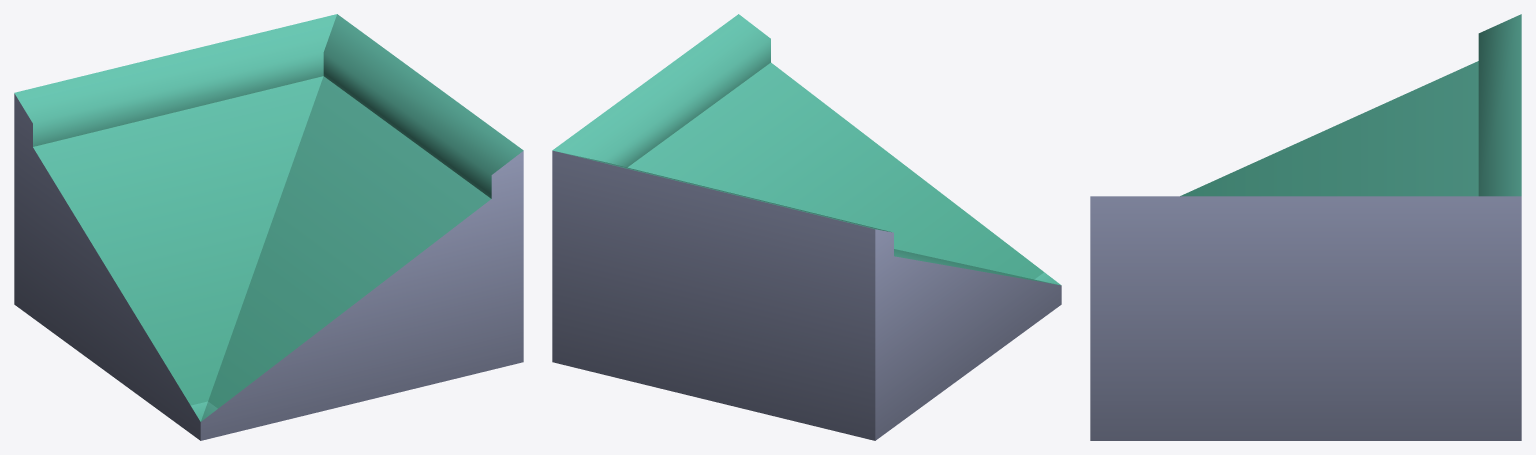
The model's file is roof-kn-roof-corner-inner.glb.
3 views of the same model, side by side, from view 1: azimuth 30°, elevation 25°; view 2: azimuth 150°, elevation 25°; view 3: azimuth 270°, elevation 25° (orthographic). The views are drawn at different scales.
Visible parts, largest first — view 1: roof-corner-inner; view 2: roof-corner-inner; view 3: roof-corner-inner.
Boxes of the visible parts, box(x1,y1,x2,y2) form: roof-corner-inner: box(14, 14, 523, 440); roof-corner-inner: box(552, 14, 1061, 440); roof-corner-inner: box(1090, 14, 1521, 440).
Size of the model in its own units: 3 by 1.88 by 3.
1 material, 1 textured.
